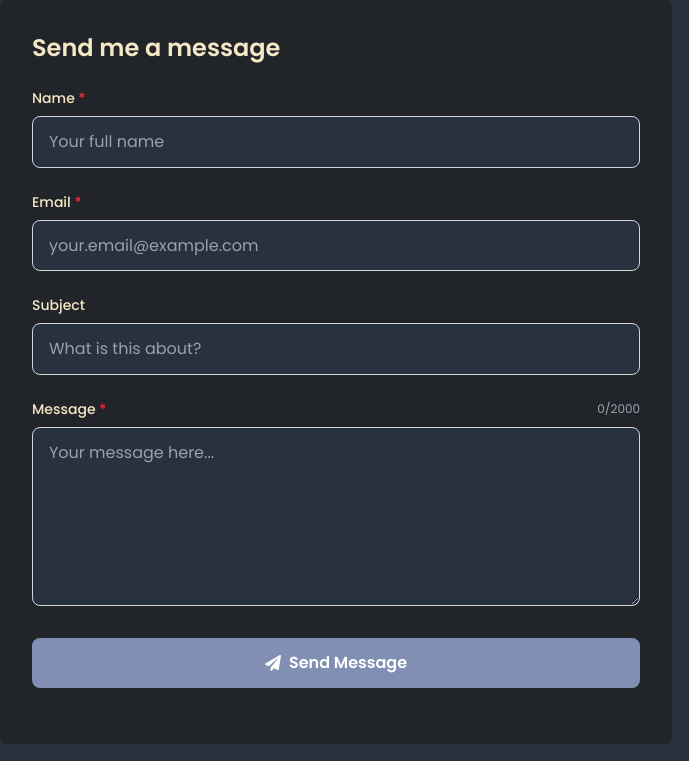
it: ContactForm — unit tests › character counter › updates counter as user types in message field
The width and height of the screenshot is (689, 761).
Type "Hello world" into the text box labelled "Message *" at (336, 517), box [32,427,640,606]
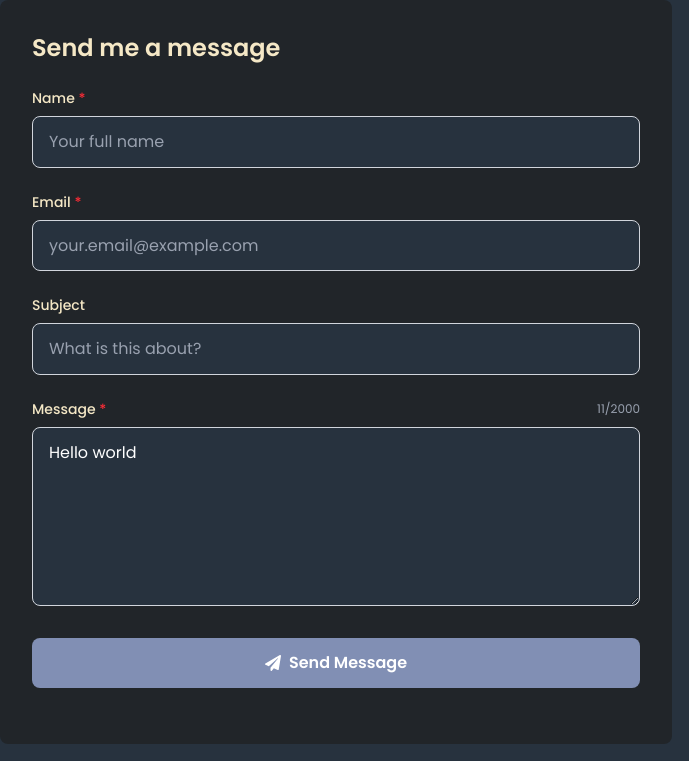
Now the text "11/2000" is shown, box [597,401,640,417]
